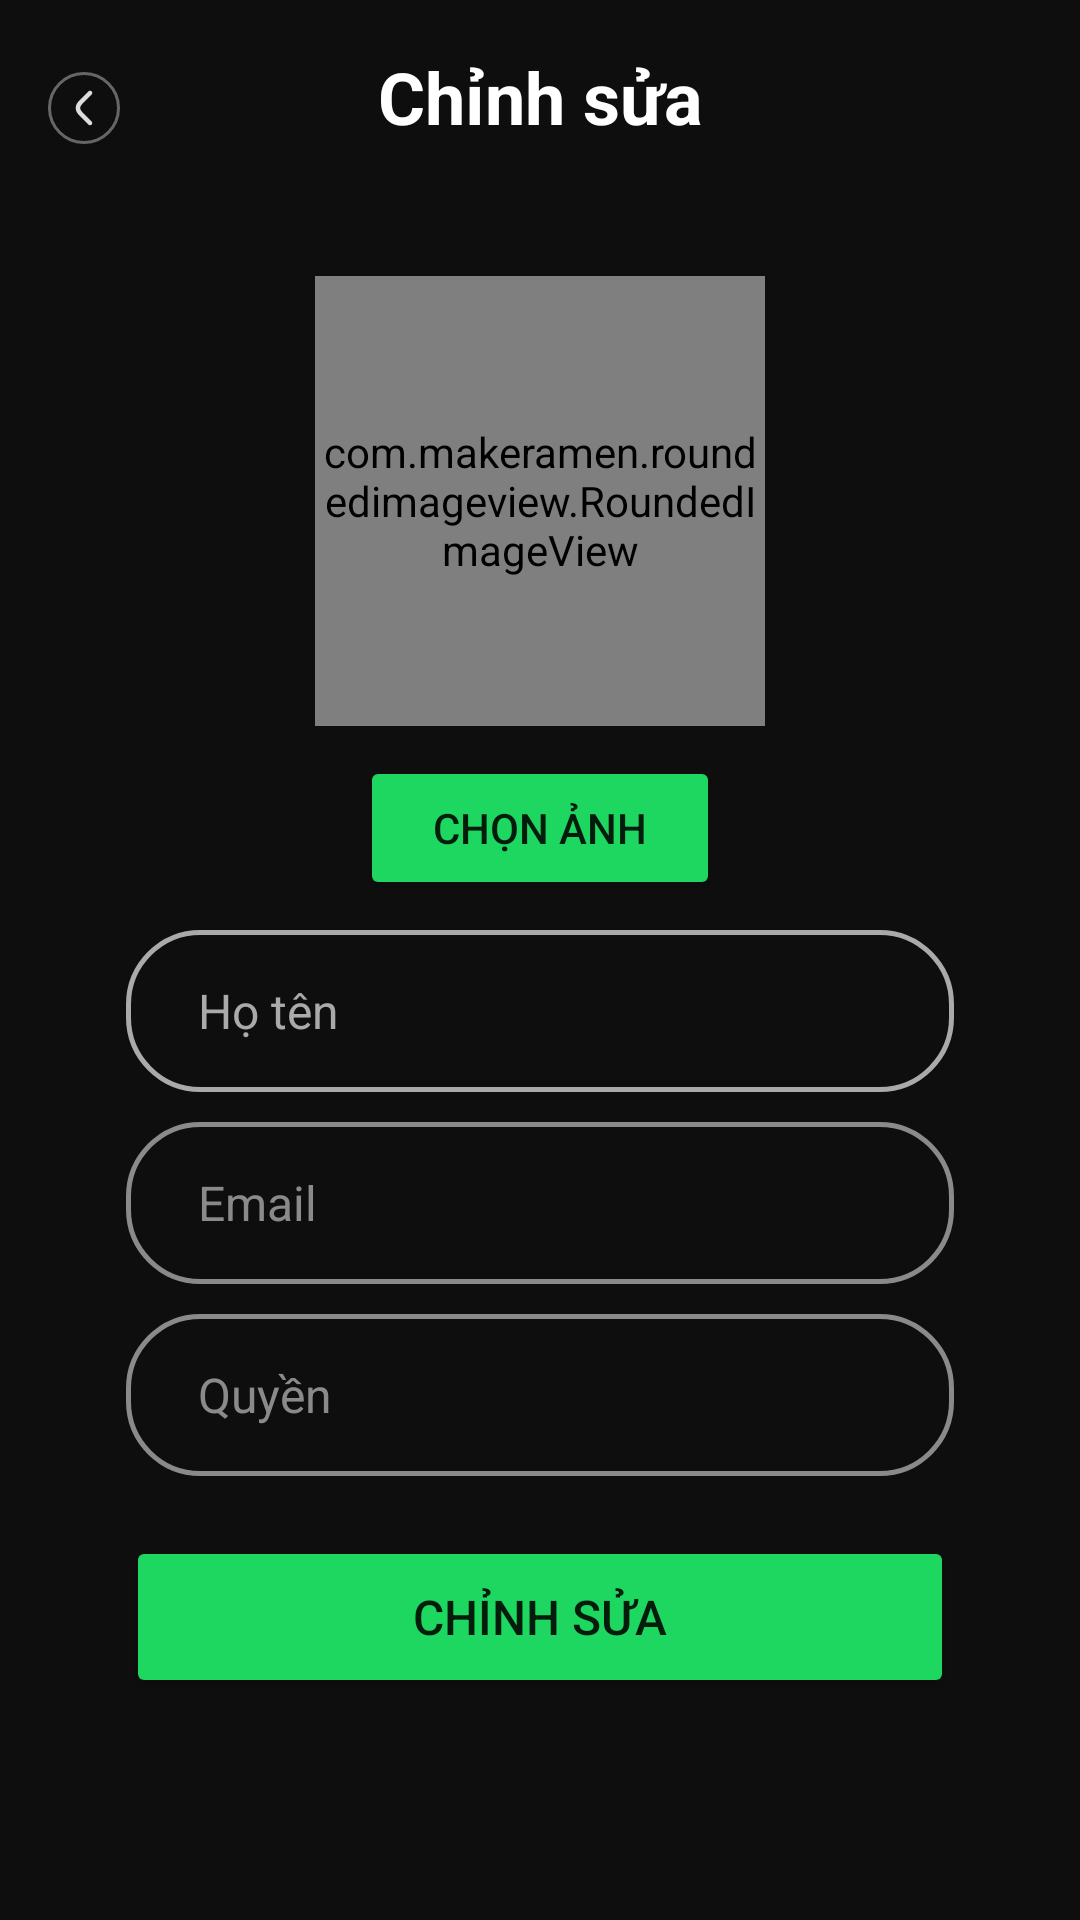

Named icons in this screenshot (1080 x 1920) and their bounding boxes, [left=x1, top=y1, right=x2, bottom=y2]:
arrow left: [left=48, top=72, right=120, bottom=144]
